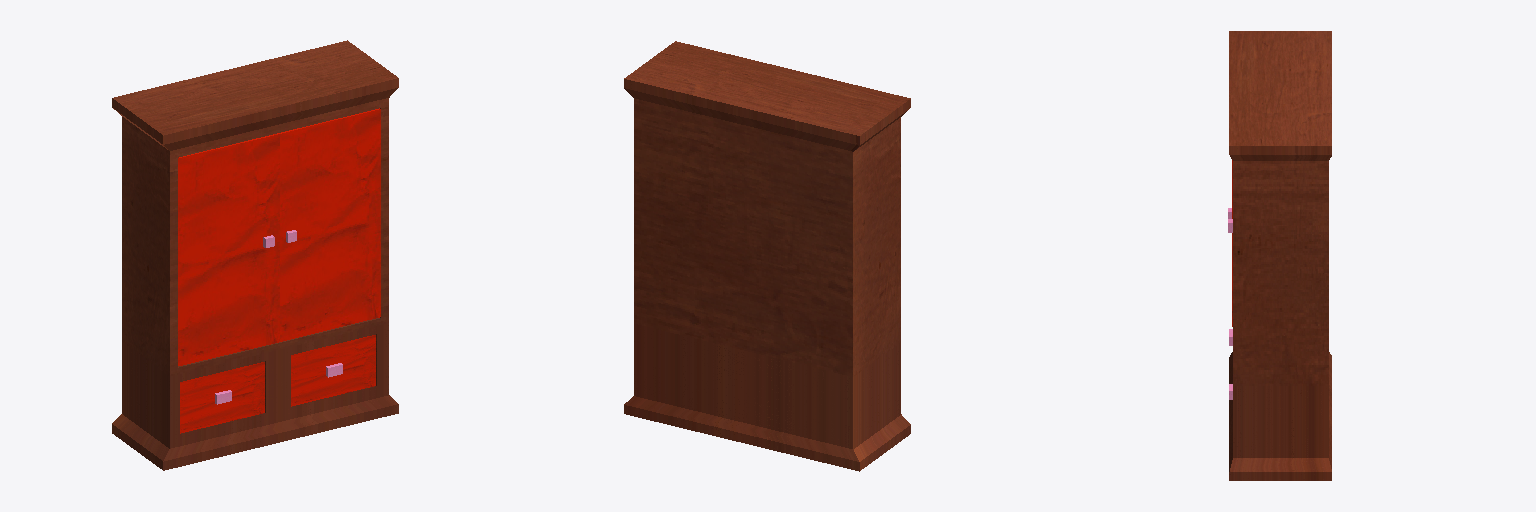
3 views of the same model, side by side, from view 1: azimuth 30°, elevation 25°; view 2: azimuth 150°, elevation 25°; view 3: azimuth 270°, elevation 25° (orthographic).
Parts seen in each view (by area): view 1: closet, closet_door_1, closet_door_2, drawer_, drawer__001; view 2: closet; view 3: closet.
Part boxes in pixels (left/top/right/bottom): closet: left=112, top=40, right=398, bottom=470; closet_door_1: left=178, top=133, right=279, bottom=365; closet_door_2: left=279, top=108, right=380, bottom=341; drawer_: left=180, top=362, right=264, bottom=433; drawer__001: left=291, top=335, right=375, bottom=406; closet: left=624, top=41, right=910, bottom=471; closet: left=1229, top=31, right=1331, bottom=480.
Bounding box in the file's own units: 5.91 × 8.04 × 2.27.
Materials: 4 (3 with a texture image).